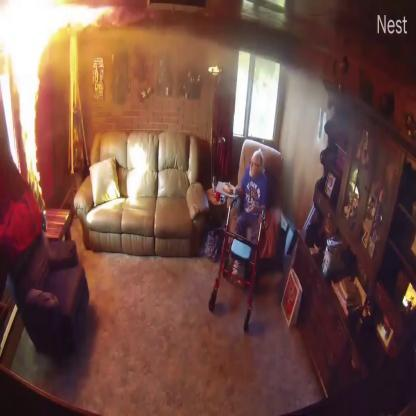fire: (3, 0, 131, 95), (12, 100, 50, 219)
